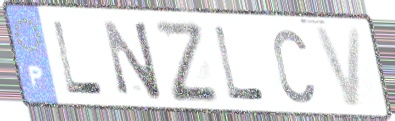C: (270, 26, 317, 106)
L: (50, 18, 107, 97), (211, 24, 268, 102)
N: (100, 18, 165, 103)
V: (311, 24, 364, 110)
Z: (150, 18, 221, 104)
